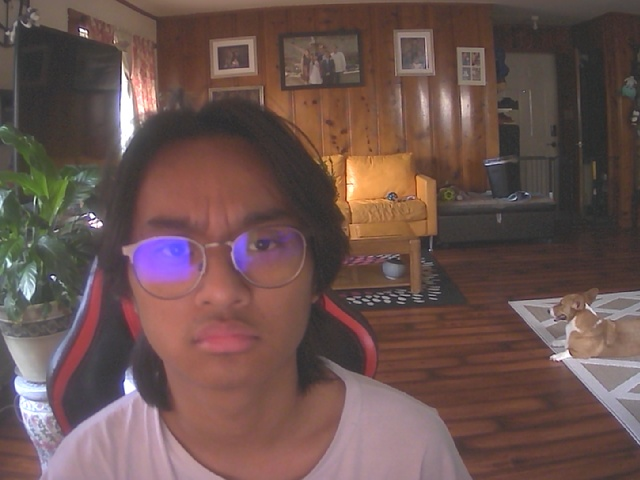anger: (117, 110, 329, 394)
